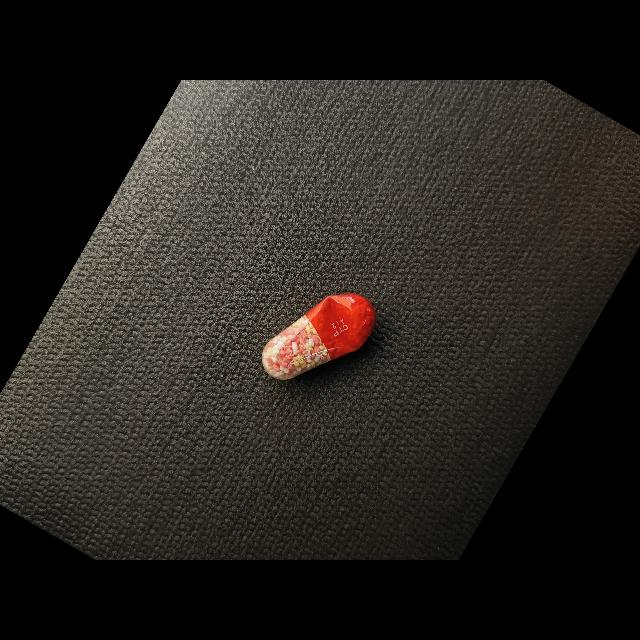Defective Capsule: (262, 293, 376, 380)
